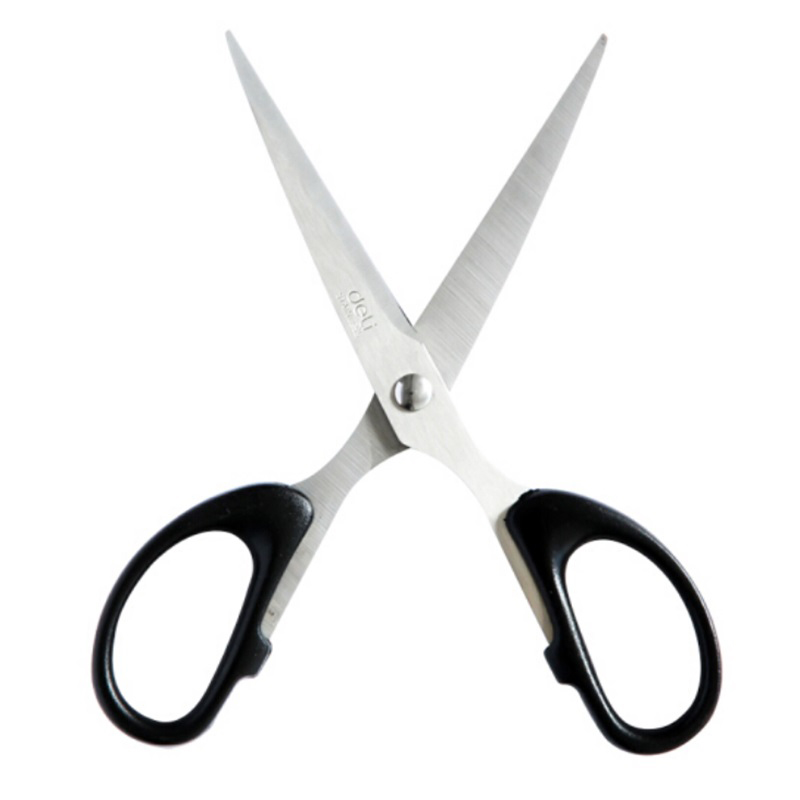scissors: (86, 21, 732, 761)
